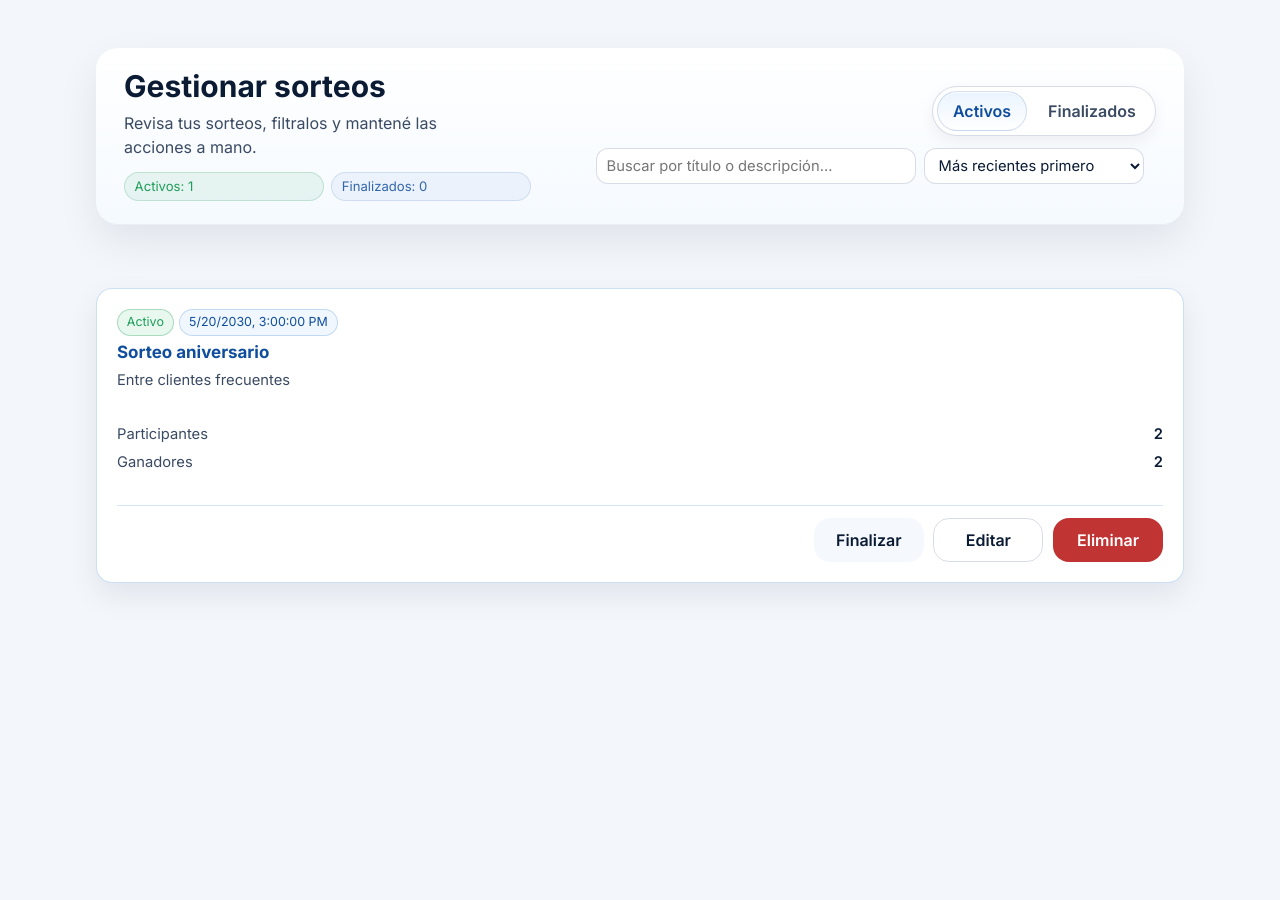
Scenario: ManageRaffles › requiere confirmación antes de eliminar un sorteo
Click the button "Eliminar". click: (1108, 540)
box: [1053,518,1163,562]
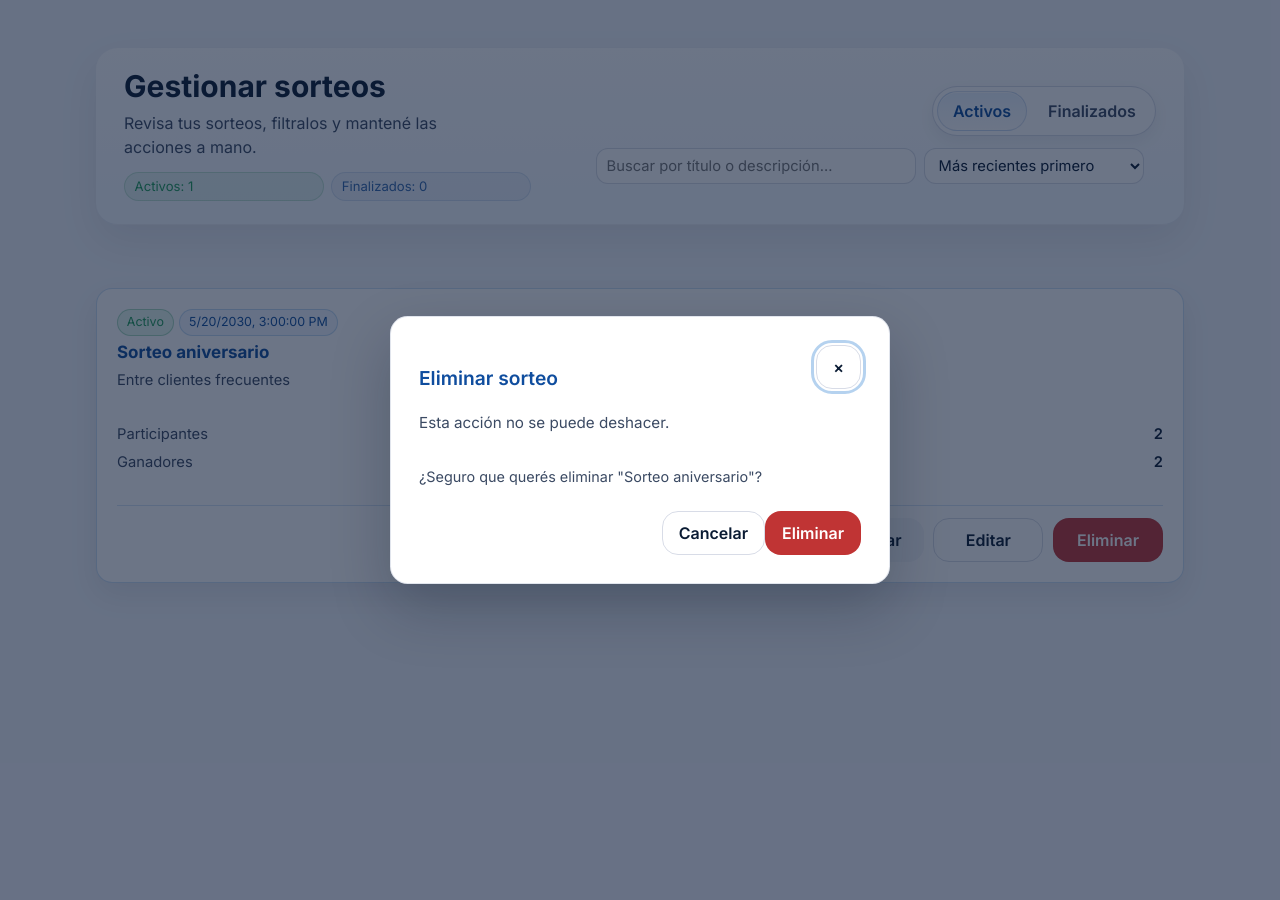
Expected: the text "¿Seguro que querés eliminar \"Sorteo aniversario\"?" is shown, [419,468,762,485]
Click the button "Eliminar". click: (813, 533)
box: [765,511,861,555]
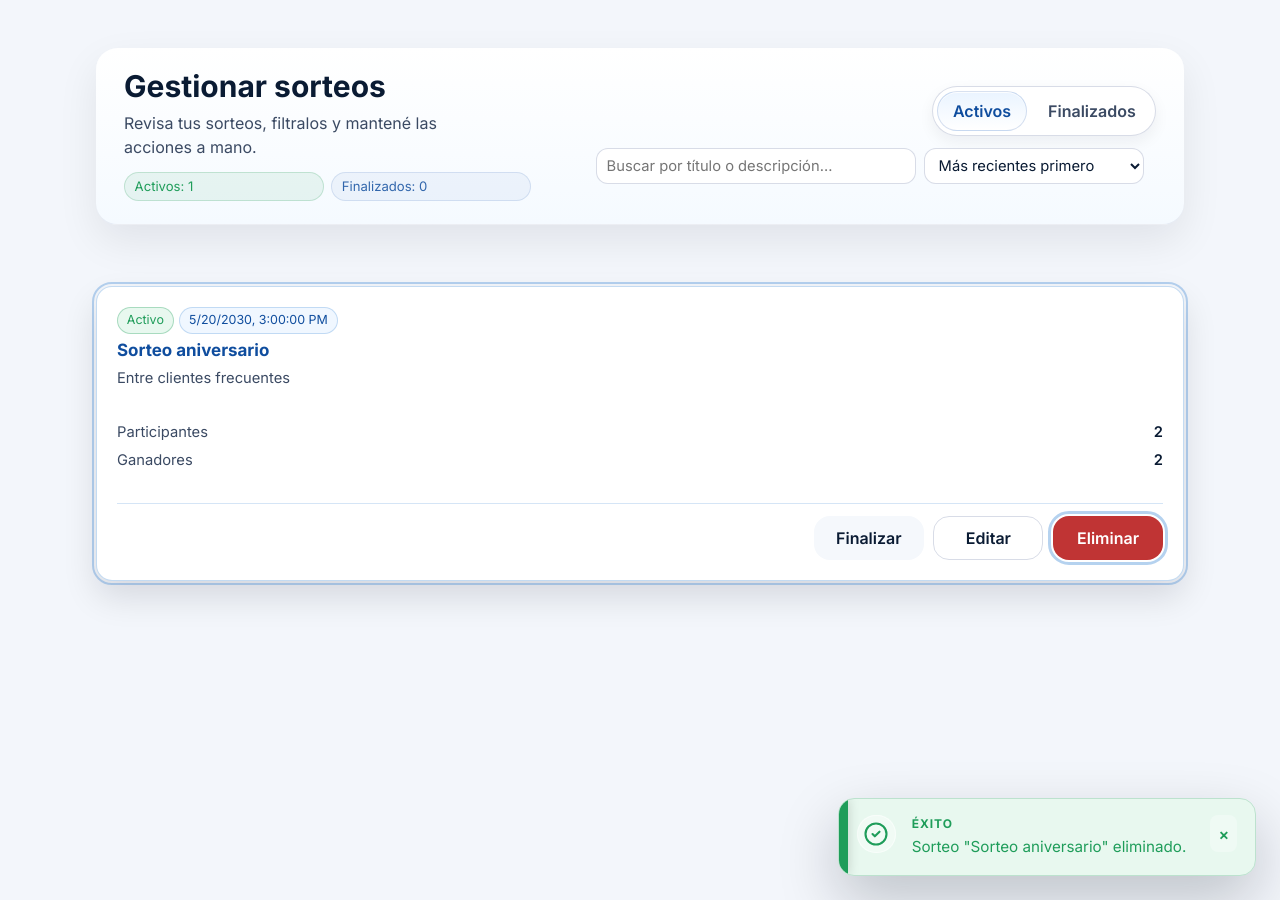
Expected: the text "Sorteo \"Sorteo aniversario\" eliminado." is shown, [912,836,1186,859]
Expected: the heading "Eliminar sorteo" is gone
